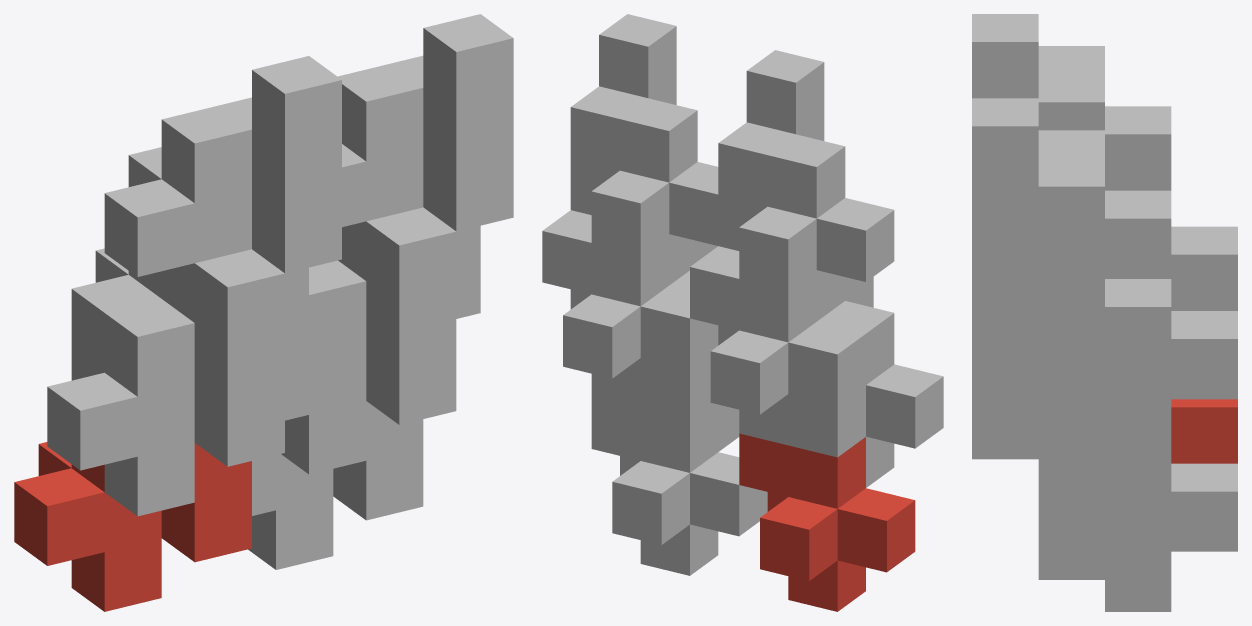
The model's file is tiling.obj.
The picture shows the model from 3 angles, left to right: view 1: azimuth 30°, elevation 25°; view 2: azimuth 150°, elevation 25°; view 3: azimuth 270°, elevation 25°; orthographic projection. The views are drawn at different scales.
Parts seen in each view (by area): view 1: copy_1_domain_2, copy_1_domain_4, copy_1_domain_6, copy_1_domain_8, copy_1_domain_1, copy_1_domain_5, copy_1_domain_3, copy_1_domain_7; view 2: copy_1_domain_4, copy_1_domain_8, copy_1_domain_3, copy_1_domain_7, copy_1_domain_1, copy_1_domain_5, copy_1_domain_2, copy_1_domain_6; view 3: copy_1_domain_7, copy_1_domain_8, copy_1_domain_5, copy_1_domain_4, copy_1_domain_6, copy_1_domain_3, copy_1_domain_1.
Part boxes in pixels (x1=…): copy_1_domain_2: x1=47, y1=249, x2=284, y2=516; copy_1_domain_4: x1=104, y1=56, x2=341, y2=322; copy_1_domain_6: x1=281, y1=207, x2=456, y2=474; copy_1_domain_8: x1=337, y1=14, x2=513, y2=280; copy_1_domain_1: x1=14, y1=442, x2=251, y2=611; copy_1_domain_5: x1=248, y1=401, x2=423, y2=569; copy_1_domain_3: x1=71, y1=248, x2=308, y2=372; copy_1_domain_7: x1=456, y1=225, x2=480, y2=318; copy_1_domain_4: x1=718, y1=50, x2=894, y2=321; copy_1_domain_8: x1=570, y1=14, x2=718, y2=284; copy_1_domain_3: x1=690, y1=194, x2=865, y2=445; copy_1_domain_7: x1=542, y1=158, x2=718, y2=409; copy_1_domain_1: x1=739, y1=433, x2=915, y2=611; copy_1_domain_5: x1=591, y1=397, x2=767, y2=575; copy_1_domain_2: x1=788, y1=277, x2=943, y2=487; copy_1_domain_6: x1=640, y1=241, x2=739, y2=451; copy_1_domain_7: x1=1038, y1=246, x2=1237, y2=459; copy_1_domain_8: x1=972, y1=98, x2=1171, y2=306; copy_1_domain_5: x1=1038, y1=427, x2=1237, y2=611; copy_1_domain_4: x1=972, y1=14, x2=1171, y2=190; copy_1_domain_6: x1=972, y1=307, x2=1038, y2=459; copy_1_domain_3: x1=1171, y1=226, x2=1237, y2=310; copy_1_domain_1: x1=1171, y1=399, x2=1237, y2=463.
Size of the model in its own units: 7 by 9 by 4.
